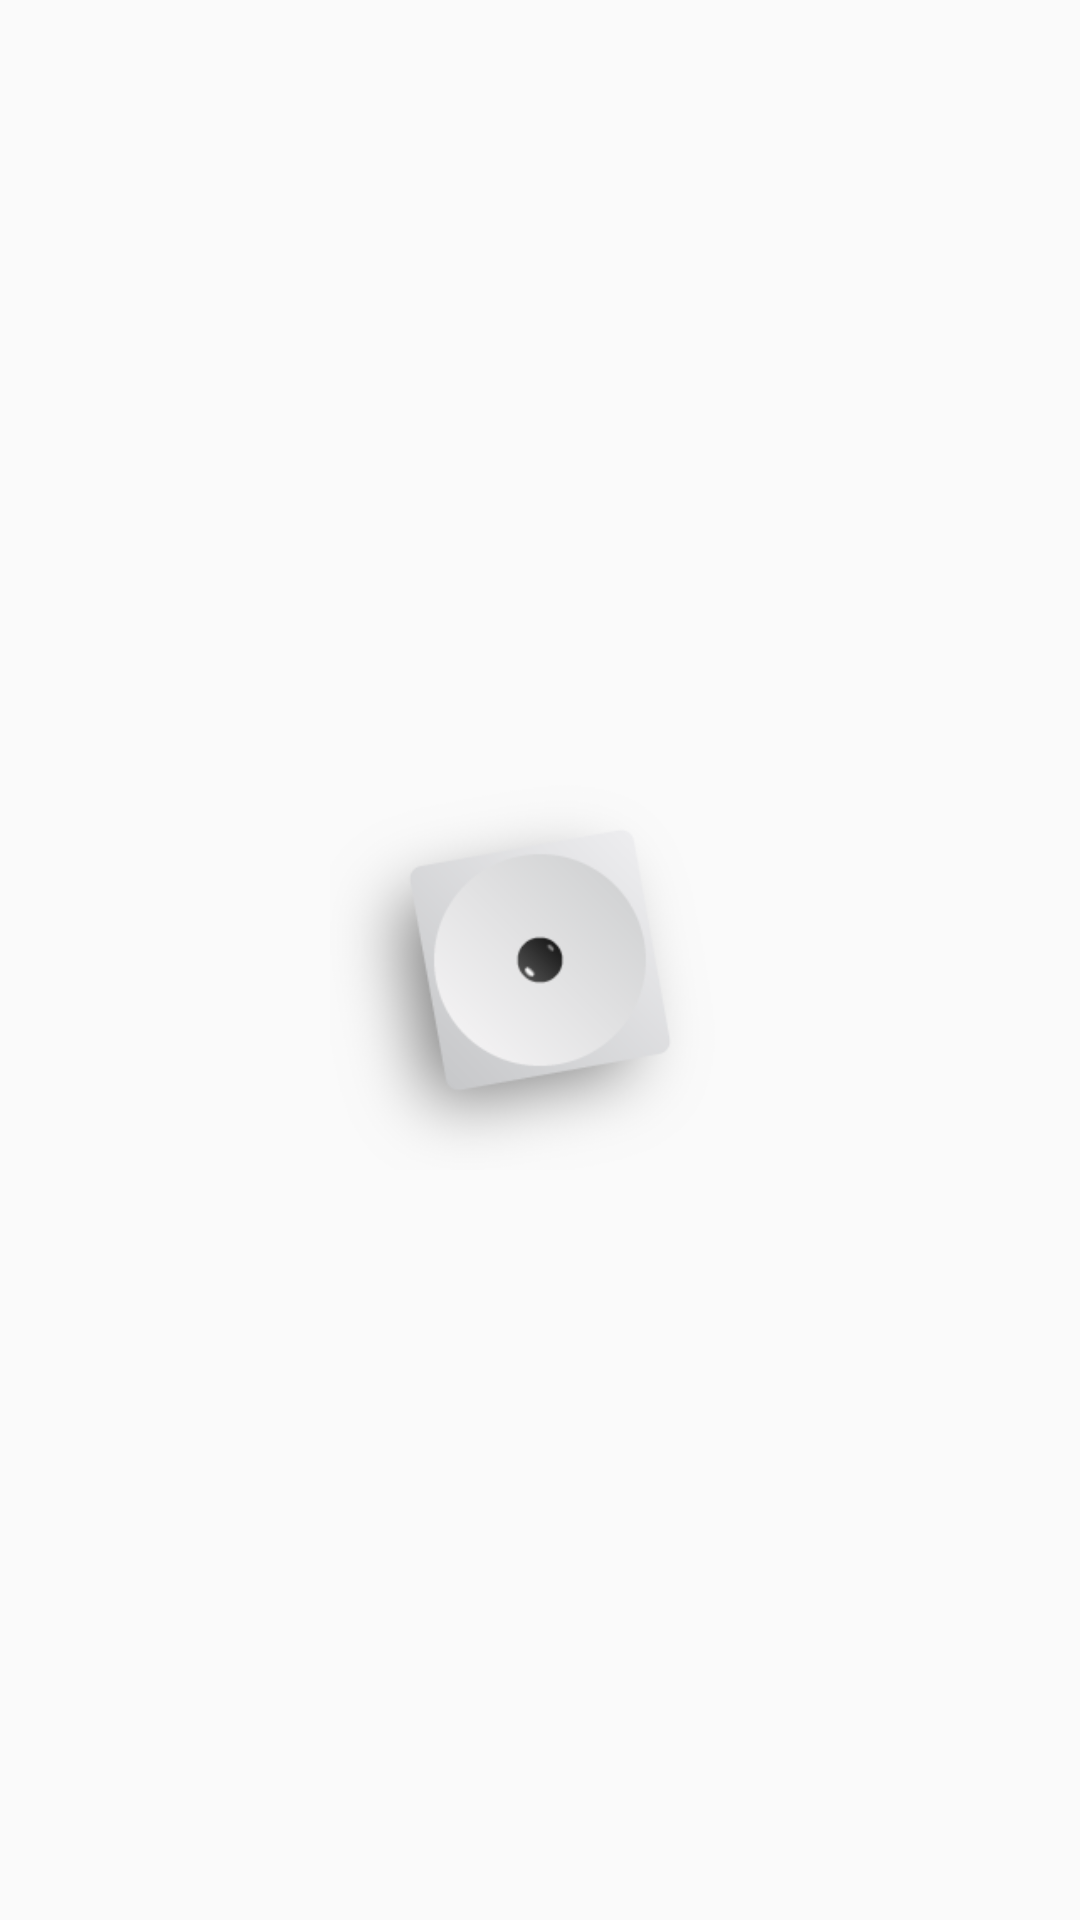

Named icons in this screenshot (1080x1920) and their bounding boxes, (x1, y1, x2, y2):
dice: (378, 850, 669, 1122)
